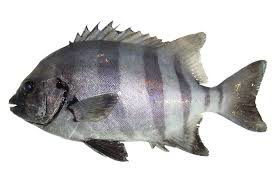azi: (12, 22, 262, 164)
